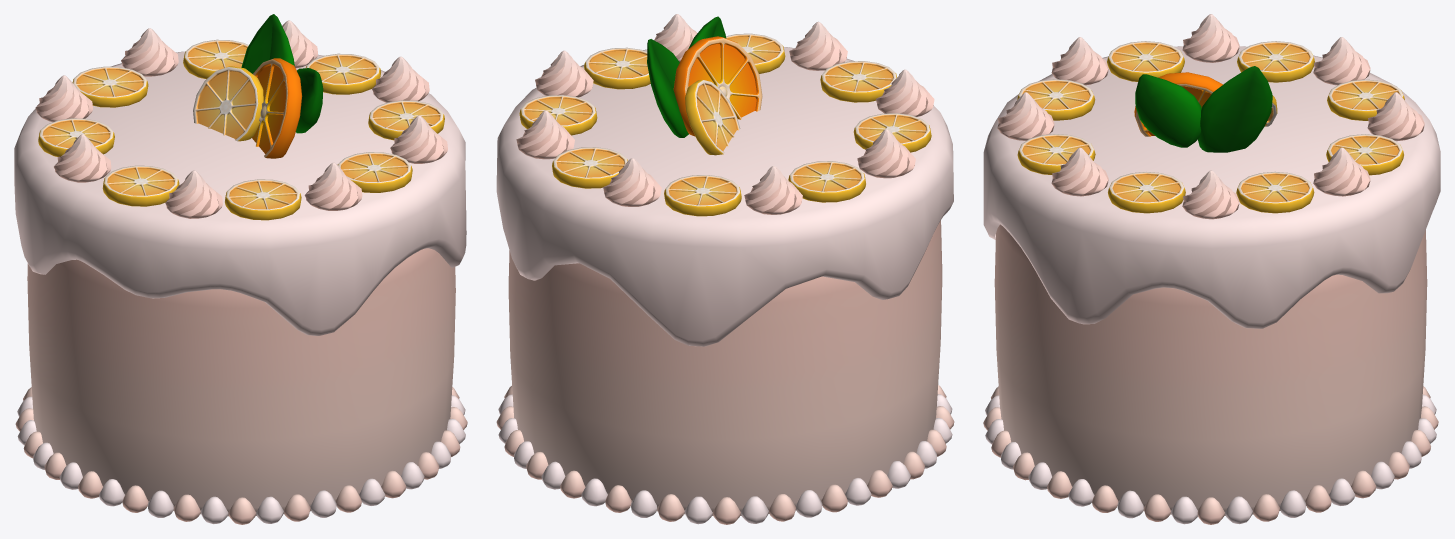
File: Cake_Lemon_V2_00.fbx
The picture shows the model from 3 angles, left to right: view 1: azimuth 30°, elevation 25°; view 2: azimuth 150°, elevation 25°; view 3: azimuth 270°, elevation 25°; orthographic projection.
Visible parts, largest first — view 1: Cake_Lemon_V2_00; view 2: Cake_Lemon_V2_00; view 3: Cake_Lemon_V2_00.
Part boxes in pixels (x1=…): Cake_Lemon_V2_00: x1=14, y1=14, x2=467, y2=524; Cake_Lemon_V2_00: x1=496, y1=14, x2=954, y2=524; Cake_Lemon_V2_00: x1=983, y1=14, x2=1440, y2=524.
Bounding box in the file's own units: 65.76 × 62.6 × 65.84.
